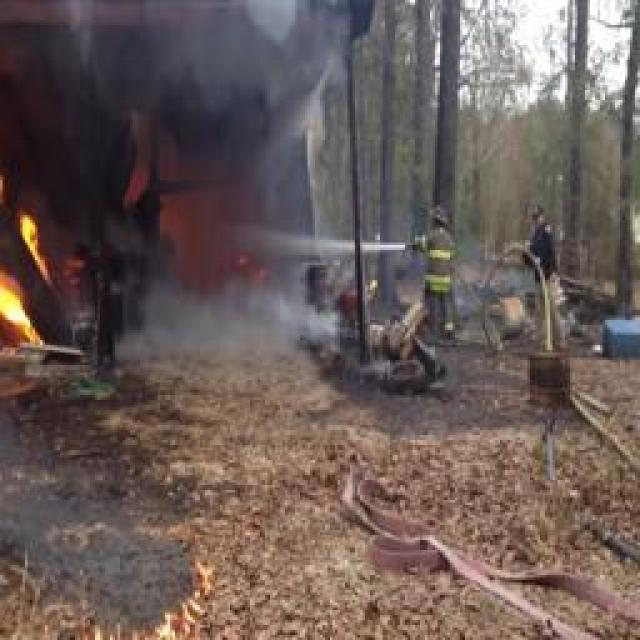Fire: (1, 250, 36, 342), (20, 212, 52, 284)
Smoke: (168, 290, 324, 346)
